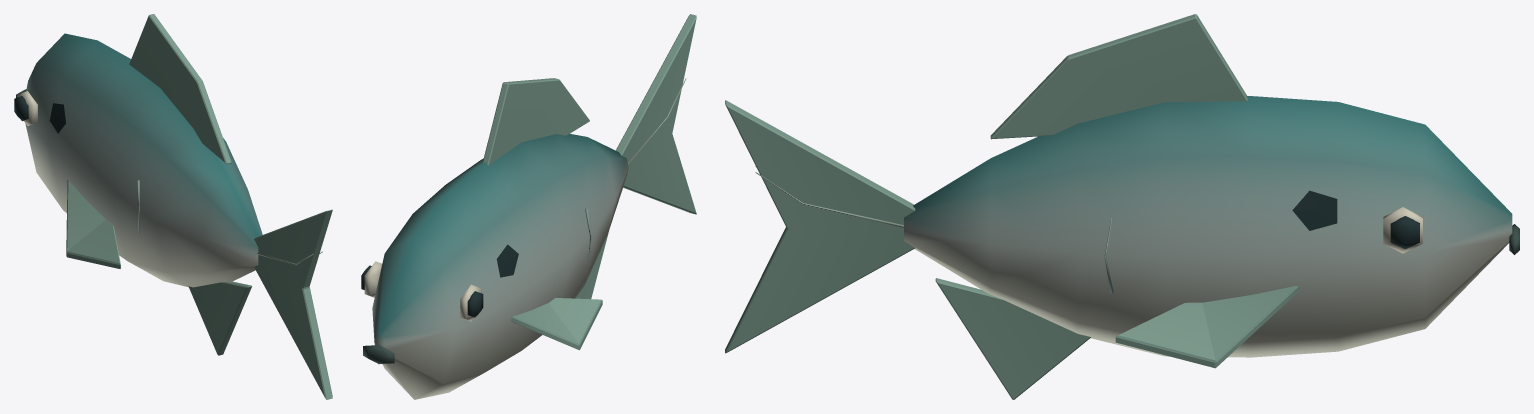
File: fish_gizzard_shad_low.glb
The picture shows the model from 3 angles, left to right: view 1: azimuth 30°, elevation 25°; view 2: azimuth 150°, elevation 25°; view 3: azimuth 270°, elevation 25°; orthographic projection. The views are drawn at different scales.
Bounding box in the file's own units: 0.0595 × 0.1063 × 0.1999.
